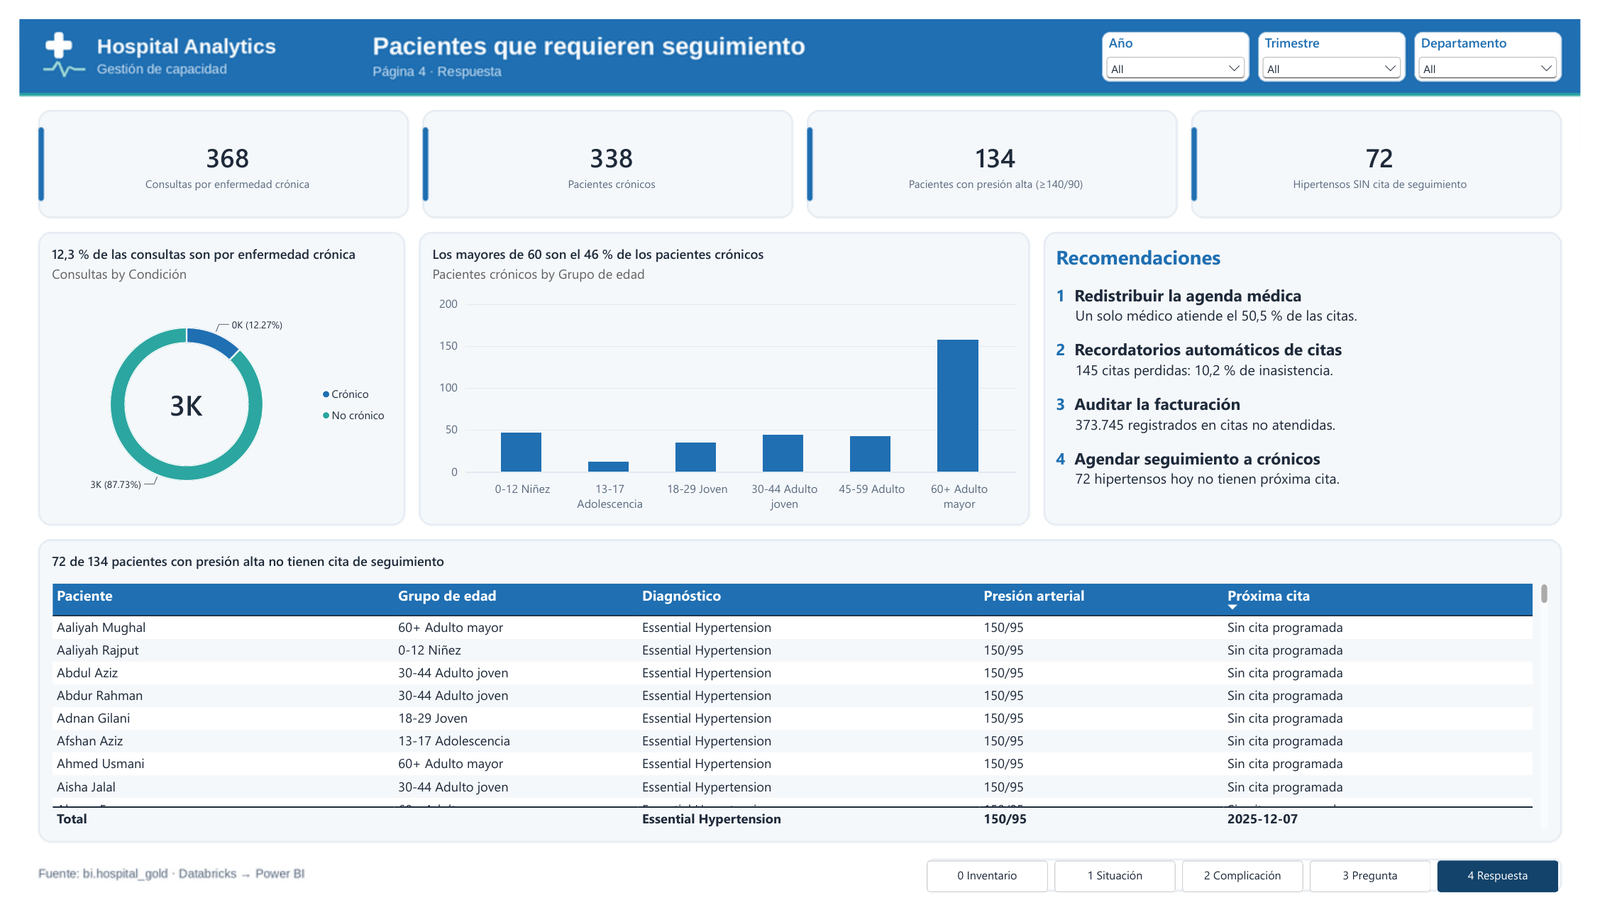

What the dashboard file says about the page in this screenshot:
{"tool":"powerbi","page":{"name":"4 Respuesta","canvas":[1920,1080],"ordinal":4},"visuals":[{"type":"slicer","fields":{"Values":["dim_date.year"]},"box":[1332,18,180,60],"z":0},{"type":"slicer","fields":{"Values":["dim_date.quarter_name"]},"box":[1524,18,180,60],"z":1000},{"type":"card","fields":{"Values":["_Medidas.Registros Crónicos"]},"box":[39,120,433.5,120],"z":1000},{"type":"slicer","fields":{"Values":["dim_departments.department_name"]},"box":[1716,18,180,60],"z":2000},{"type":"card","fields":{"Values":["_Medidas.Pacientes Crónicos"]},"box":[511.5,120,433.5,120],"z":2000},{"type":"card","fields":{"Values":["_Medidas.Pacientes con Presión Alta"]},"box":[984,120,433.5,120],"z":3000},{"type":"pageNavigator","box":[1116,1035,780,39],"z":3000},{"type":"card","fields":{"Values":["_Medidas.Hipertensos sin Próxima Cita"]},"box":[1456.5,120,433.5,120],"z":4000},{"type":"donutChart","title":"12,3 % de las consultas son por enfermedad crónica","fields":{"Category":["fact_medical_records.Condición"],"Y":["_Medidas.Registros Clínicos"]},"box":[24,264,450,360],"z":5000},{"type":"clusteredColumnChart","title":"Los mayores de 60 son el 46 % de los pacientes crónicos","fields":{"Category":["dim_patients.age_group"],"Y":["_Medidas.Pacientes Crónicos"]},"box":[492,264,750,360],"z":6000},{"type":"tableEx","title":"72 de 134 pacientes con presión alta no tienen cita de seguimiento","fields":{"Values":["dim_patients.full_name","dim_patients.age_group","_Medidas.Diagnóstico (lectura alta)","_Medidas.Presión Arterial (lectura alta)","_Medidas.Próxima Cita (seguimiento)"]},"box":[24,642,1872,372],"z":7000},{"type":"textbox","box":[1275,276,606,336],"z":8000}]}

Visuals, with their boxes in screenshot pixels (x1, y1, x2, y2), scaled from the page's 1920x1080 canvas onto the 1600x917 screenshot:
slicer - dim_date.year: 1110, 15, 1260, 66
slicer - dim_date.quarter_name: 1270, 15, 1420, 66
card - _Medidas.Registros Crónicos: 32, 102, 394, 204
slicer - dim_departments.department_name: 1430, 15, 1580, 66
card - _Medidas.Pacientes Crónicos: 426, 102, 788, 204
card - _Medidas.Pacientes con Presión Alta: 820, 102, 1181, 204
pageNavigator: 930, 879, 1580, 912
card - _Medidas.Hipertensos sin Próxima Cita: 1214, 102, 1575, 204
"12,3 % de las consultas son por enfermedad crónica" donutChart: 20, 224, 395, 530
"Los mayores de 60 son el 46 % de los pacientes crónicos" clusteredColumnChart: 410, 224, 1035, 530
"72 de 134 pacientes con presión alta no tienen cita de seguimiento" tableEx: 20, 545, 1580, 861
textbox: 1062, 234, 1568, 520
